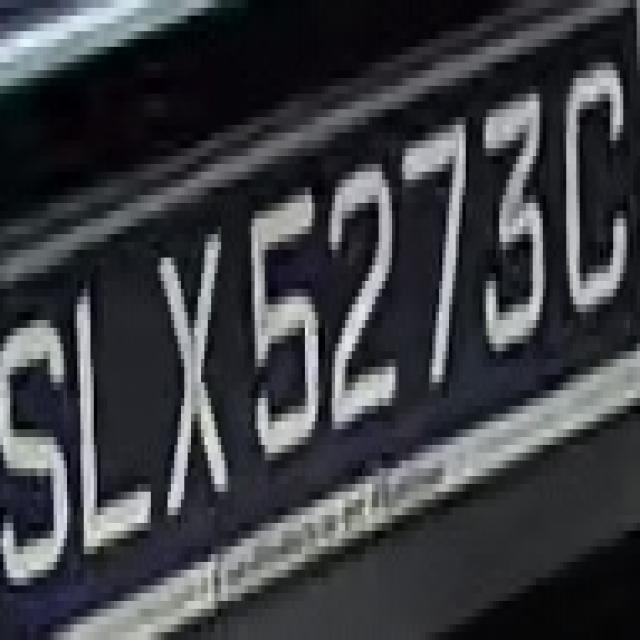2: (315, 148, 409, 445)
3: (476, 86, 549, 382)
5: (238, 187, 332, 484)
7: (399, 109, 472, 398)
C: (553, 54, 630, 336)
L: (77, 258, 161, 570)
S: (7, 296, 70, 608)
X: (140, 218, 244, 530)
